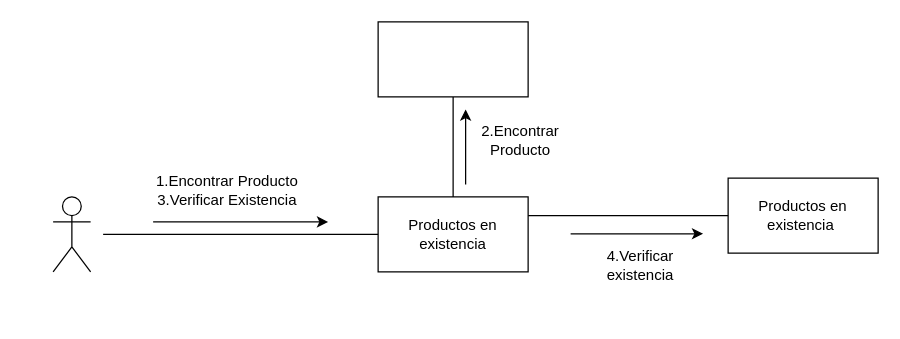
Some shapes in this 900 by 339 pixel diagram are drawn without their labels. Each missing label, with the centre of its shape:
Encargad@ de almacén: pixel 71 234
Producto: pixel 452 59
